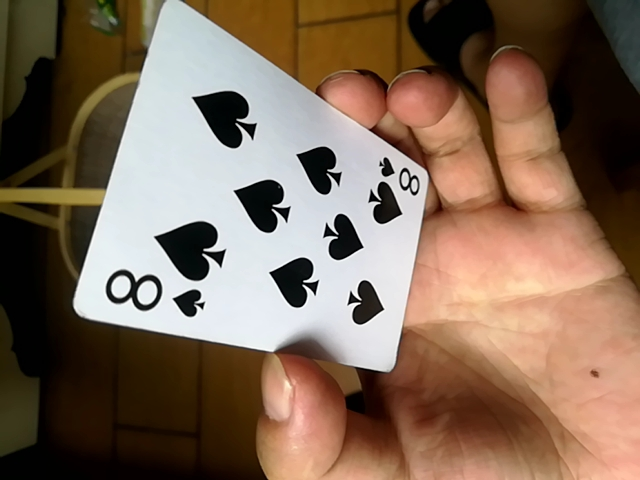ht 8: (76, 2, 429, 386)
